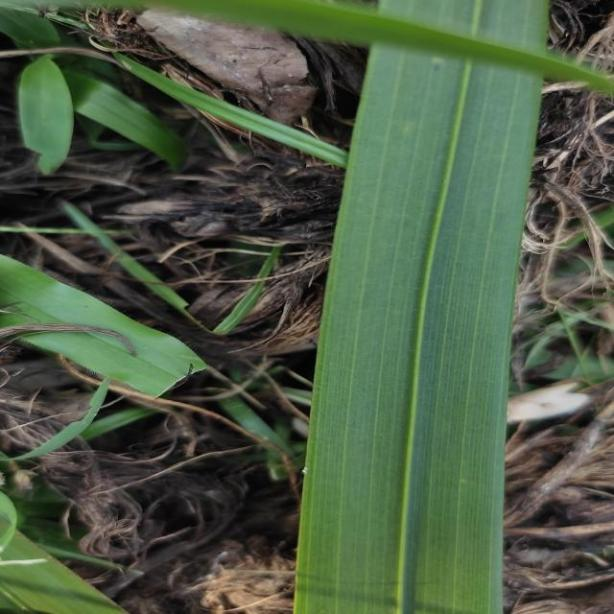Healthy: (291, 0, 550, 614)
